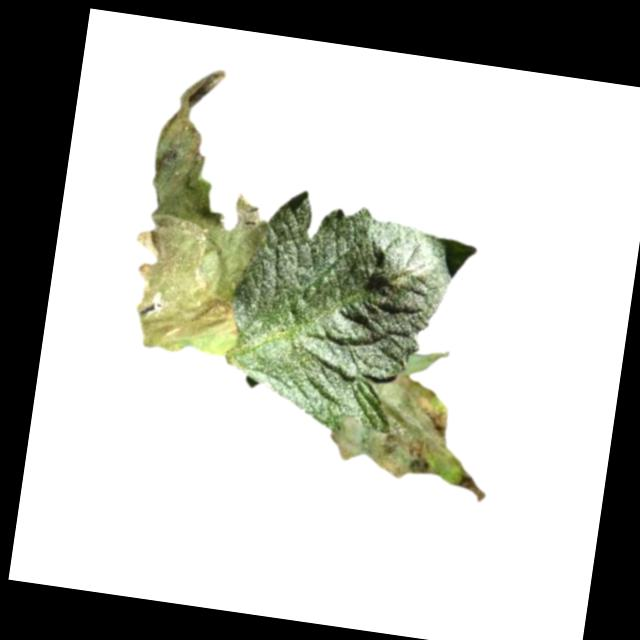Late_blight: (123, 59, 290, 363), (322, 363, 499, 510)
healthy: (216, 182, 483, 447)
